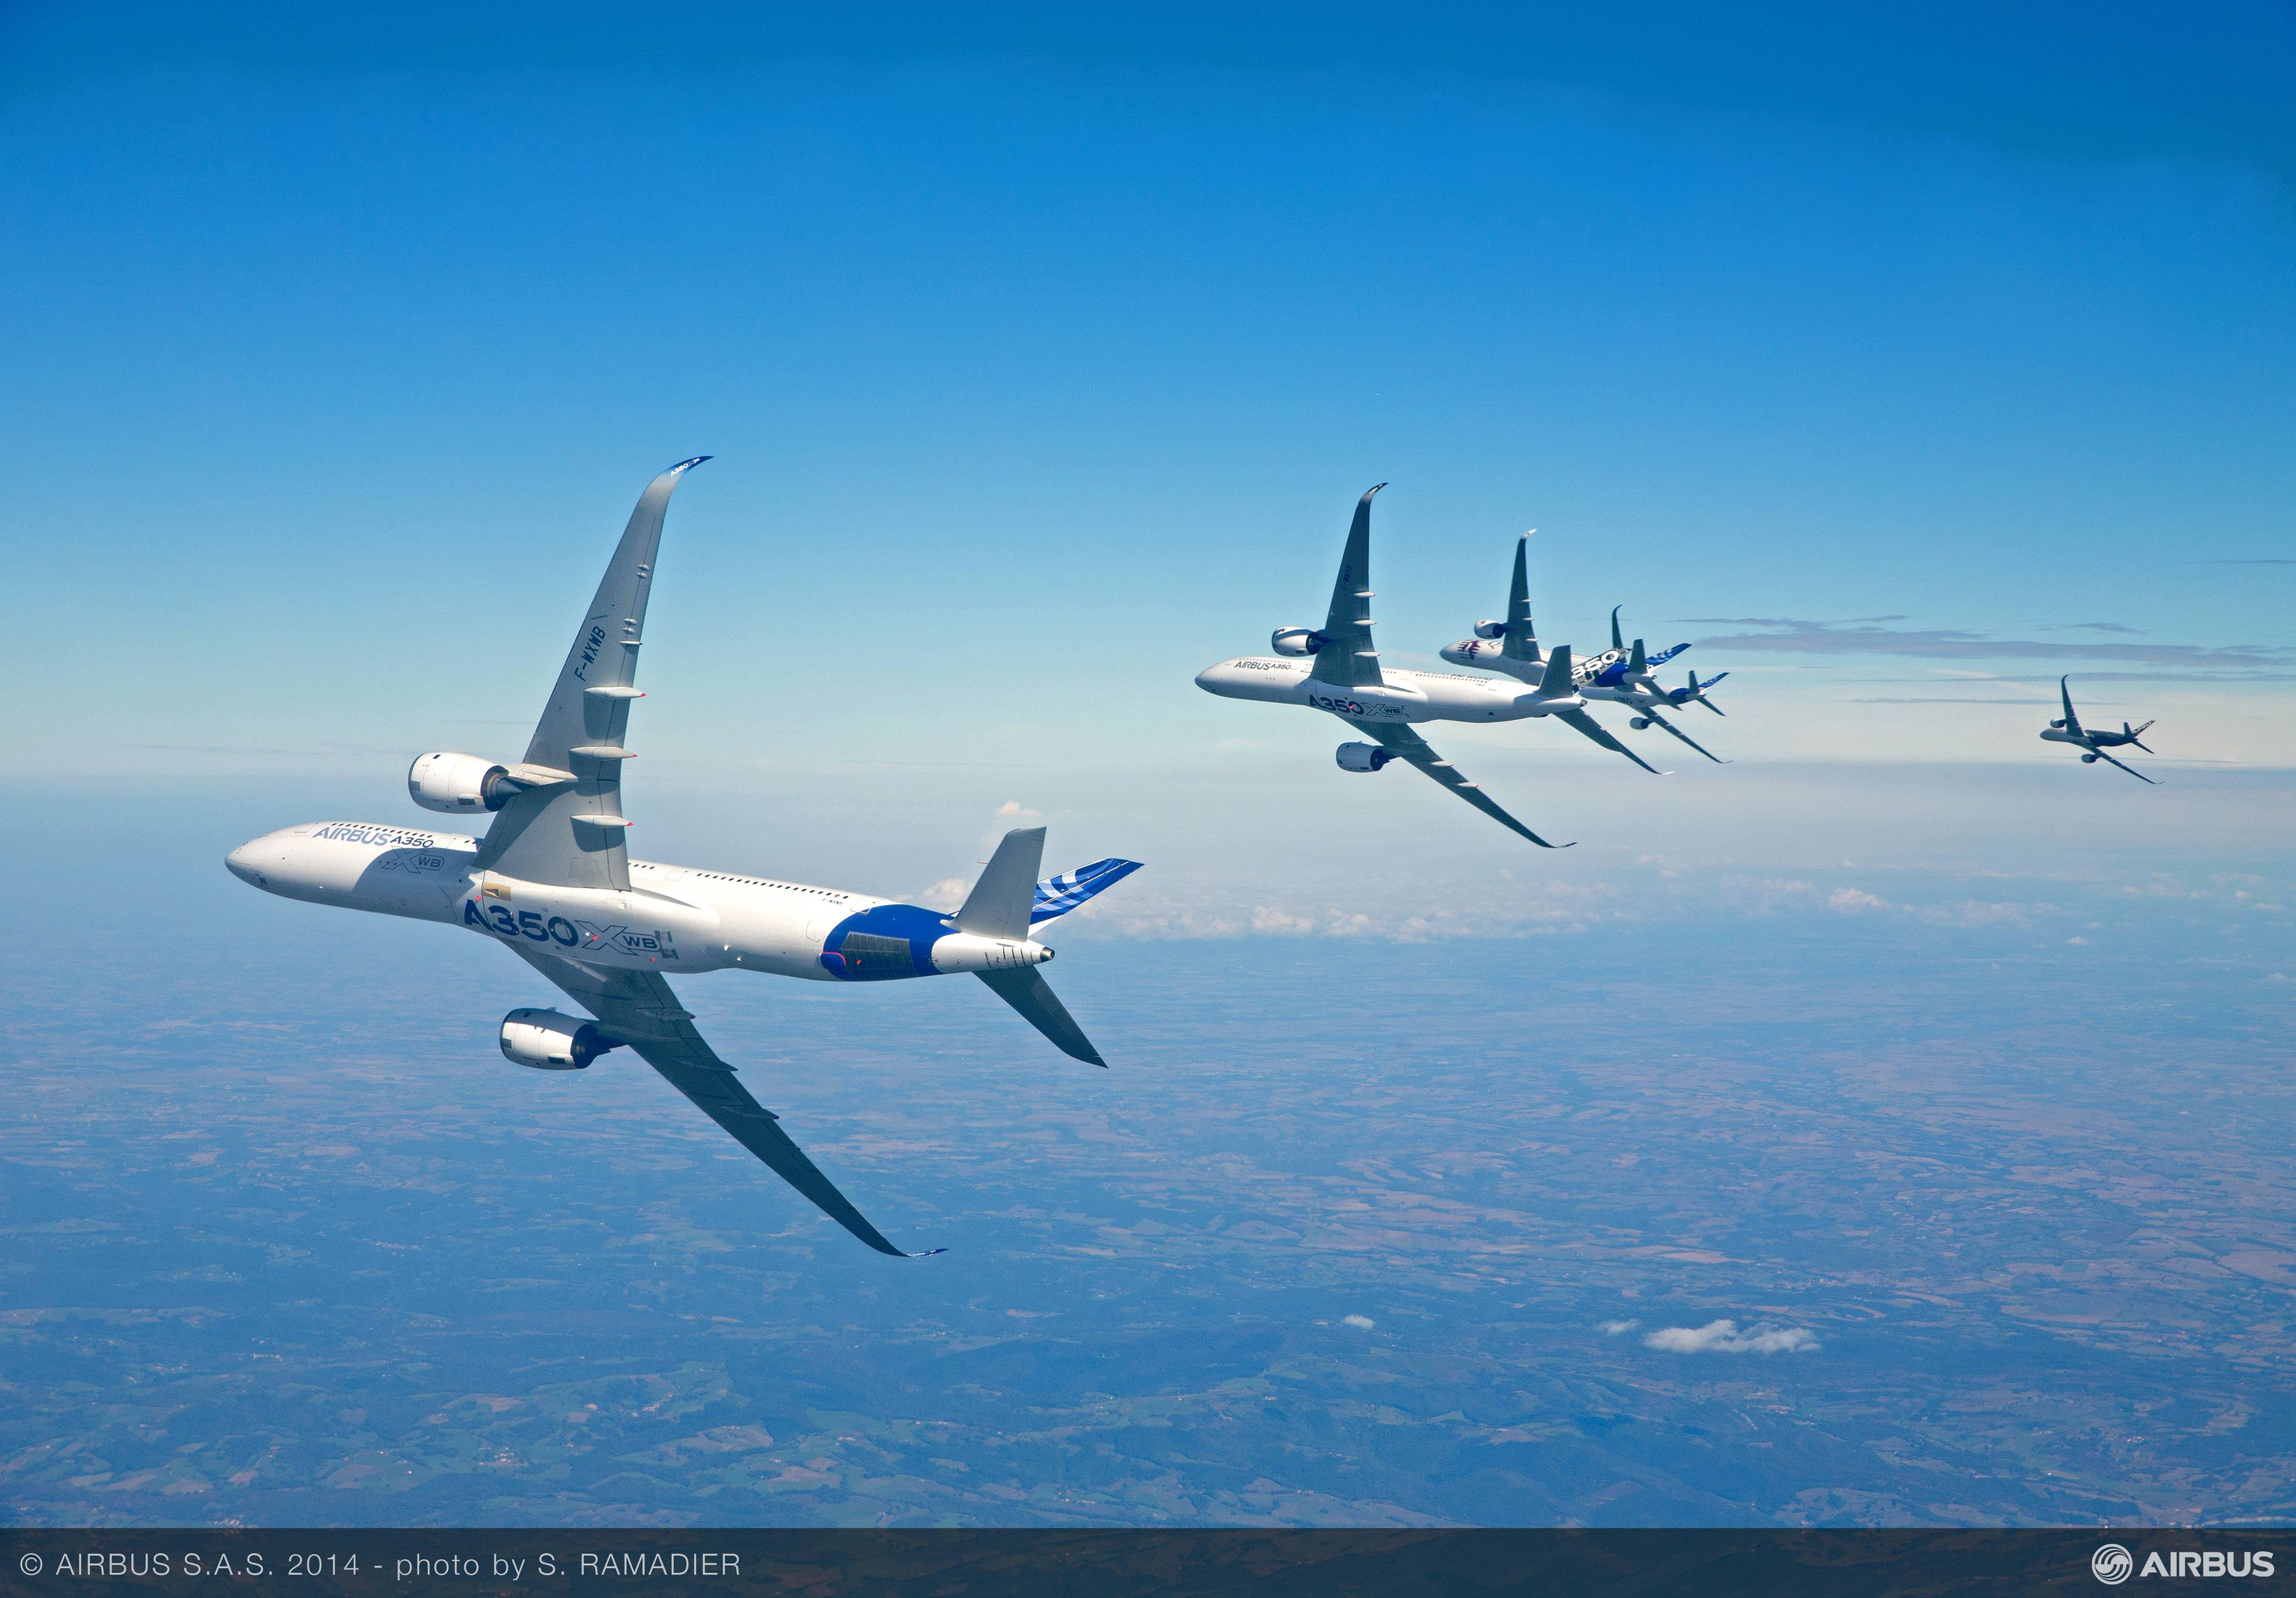plane: (227, 450, 1139, 1272), (1185, 483, 1561, 864), (1443, 515, 1682, 747), (2031, 673, 2179, 785)
